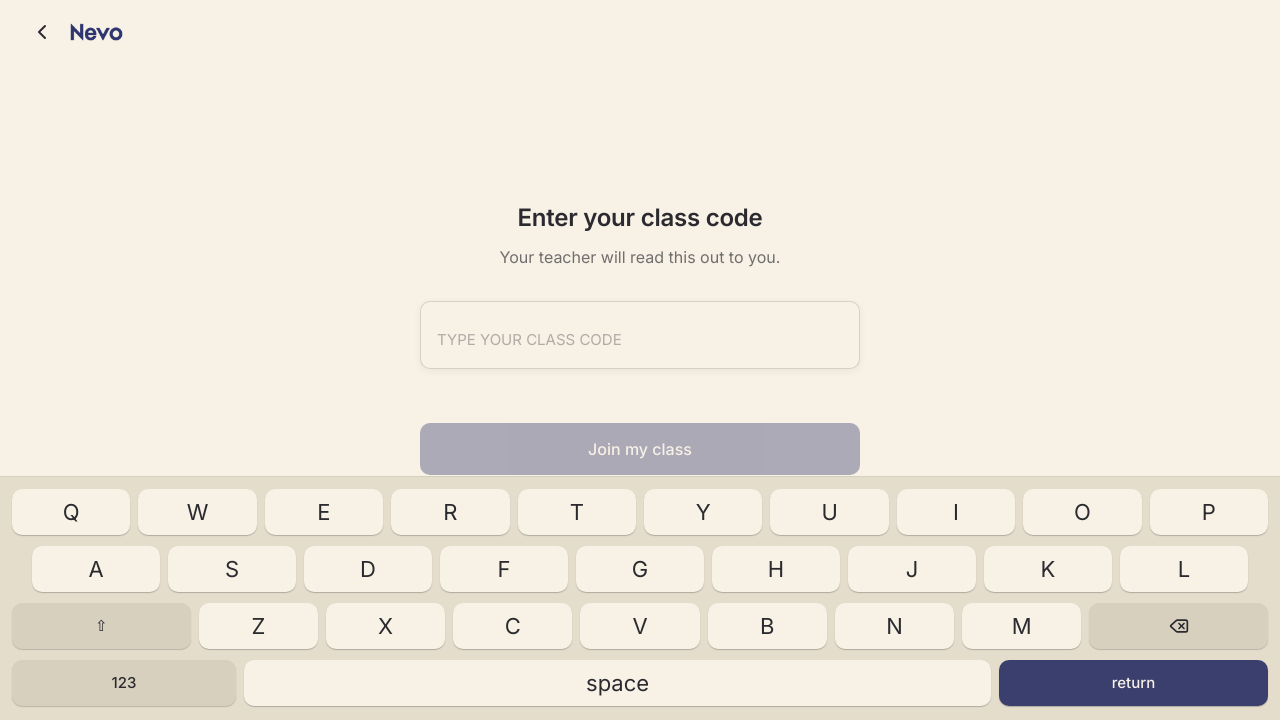
TeacherJoin › tells a child their code was refused, and blames us when it was us
Type "WRONG1" into the field labelled "class code".
click(640, 335); type("WRONG1")  # box left=437, top=302, right=843, bottom=368
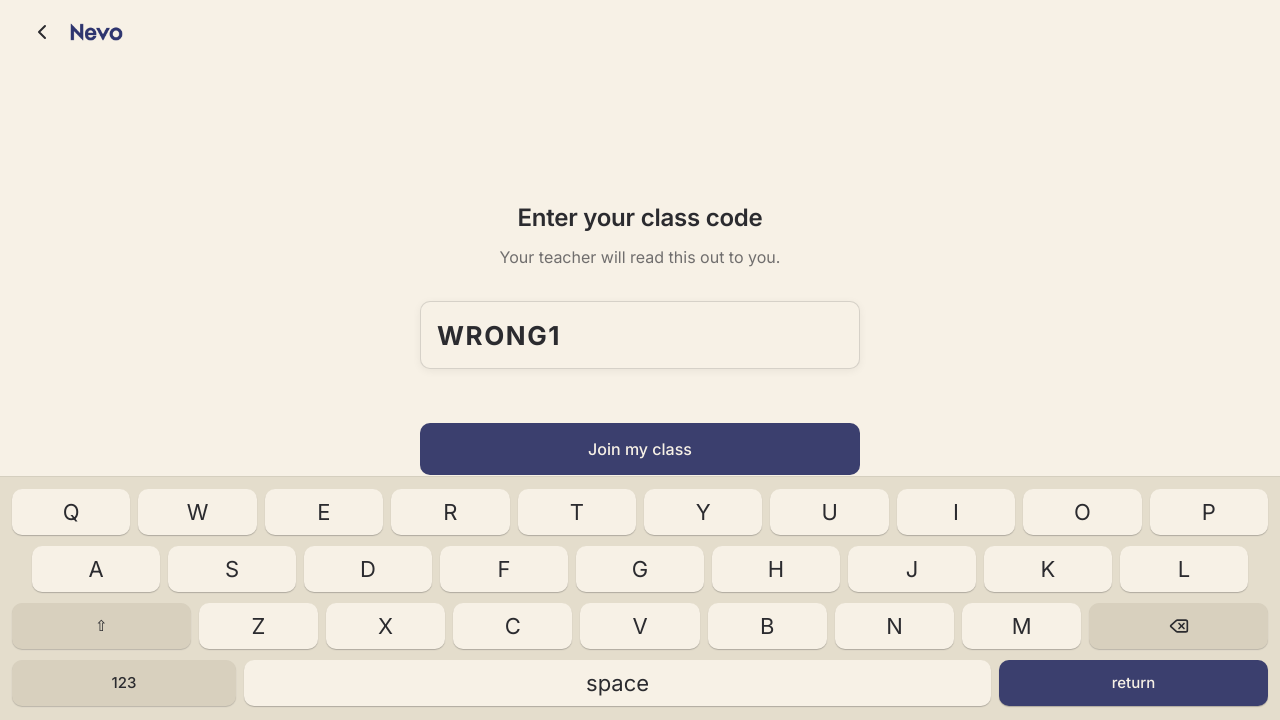
Click the button "Join my class".
click(640, 449)  # box left=420, top=423, right=860, bottom=475
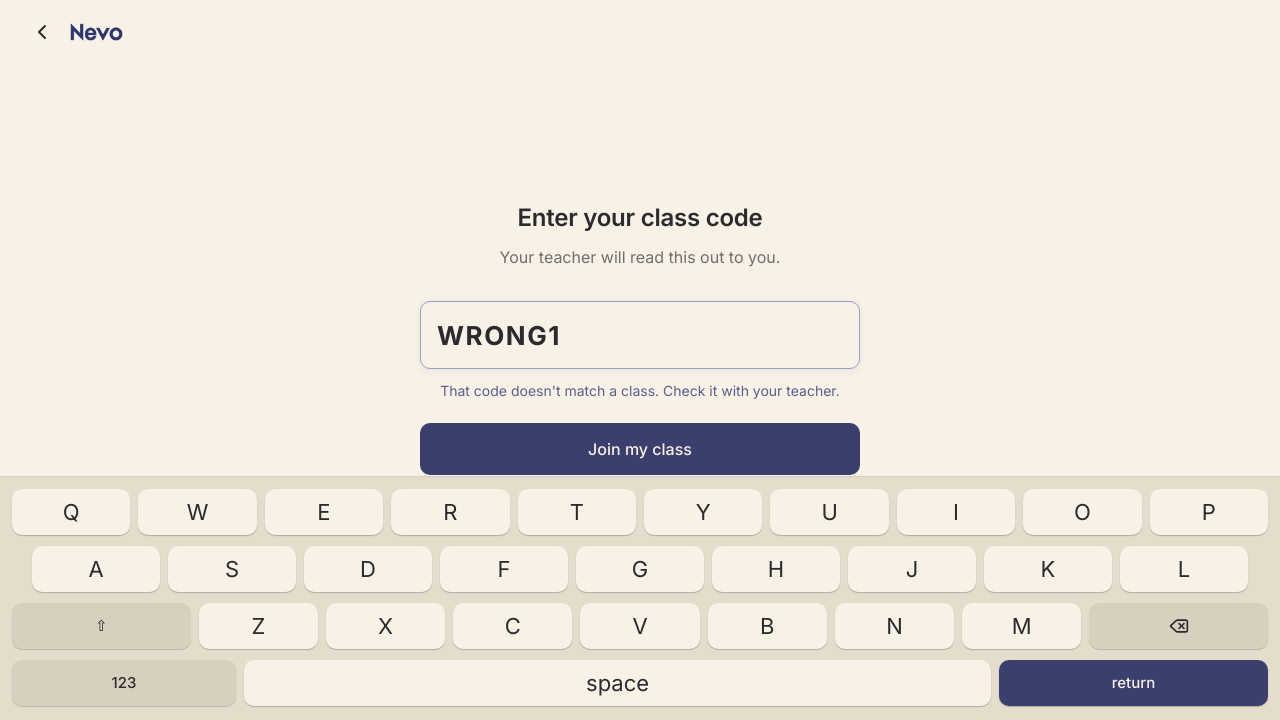
Expected: the text "That code doesn't match a class. Check it with your teacher." is shown, left=440, top=381, right=840, bottom=401
